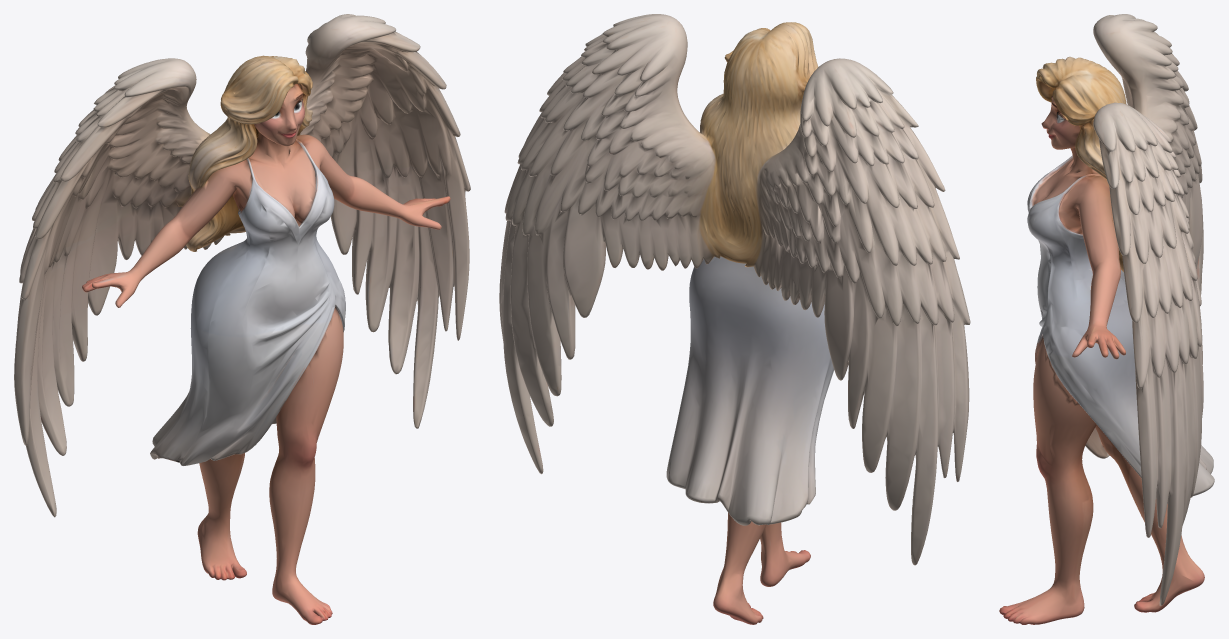
File: angel.glb
3 views of the same model, side by side, from view 1: azimuth 30°, elevation 25°; view 2: azimuth 150°, elevation 25°; view 3: azimuth 270°, elevation 25° (orthographic). The views are drawn at different scales.
Parts seen in each view (by area): view 1: Object_4; view 2: Object_4; view 3: Object_4.
Part boxes in pixels (x1,y1,x2,y2): Object_4: (14,14,470,624); Object_4: (499,14,970,624); Object_4: (999,14,1214,624).
Size of the model in its own units: 0.9753 by 1.12 by 0.3976.
Materials: 1 (1 with a texture image).
